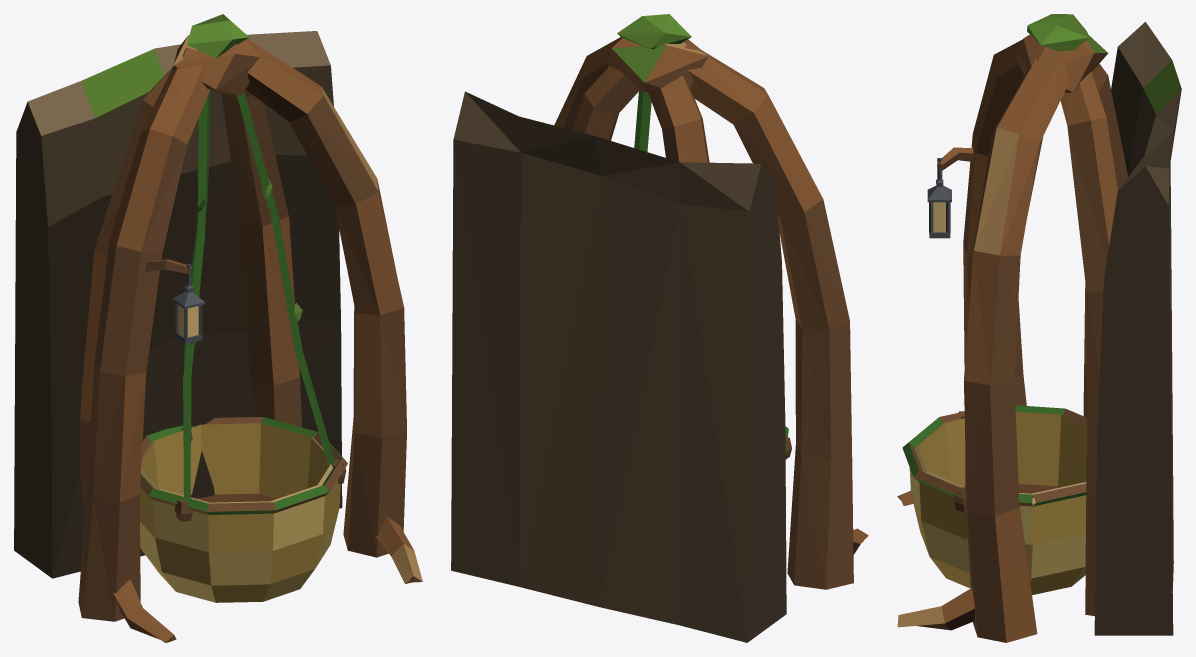
File: root_lift.glb
The picture shows the model from 3 angles, left to right: view 1: azimuth 30°, elevation 25°; view 2: azimuth 150°, elevation 25°; view 3: azimuth 270°, elevation 25°; orthographic projection. The views are drawn at different scales.
Visible parts, largest first — view 1: root_lift, basket; view 2: root_lift; view 3: root_lift, basket.
Part boxes in pixels (x1,y1,x2,y2): root_lift: [14, 14, 422, 642]; basket: [139, 417, 347, 602]; root_lift: [451, 14, 868, 642]; root_lift: [897, 14, 1181, 642]; basket: [902, 405, 1086, 595].
Bounding box in the file's own units: 1.65 × 2.6 × 1.23.
